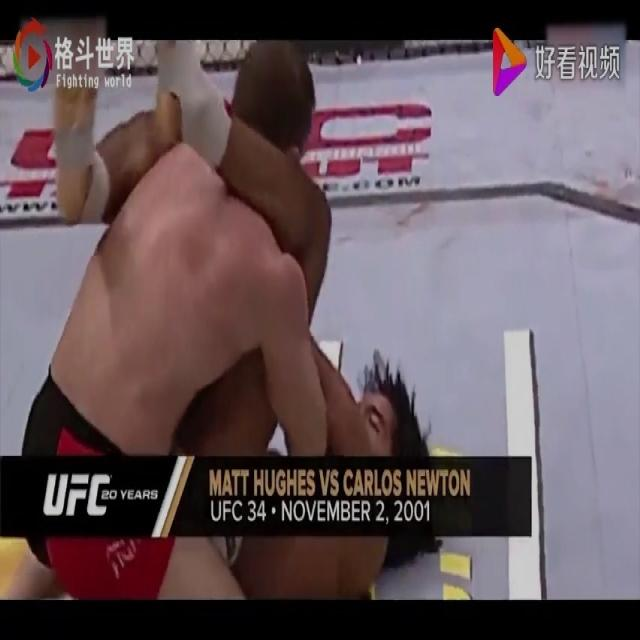fight: (2, 29, 430, 607)
